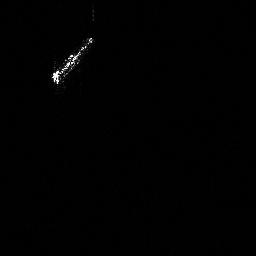ship: (47, 34, 96, 87)
